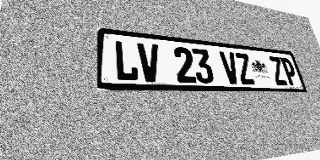2: (173, 46, 197, 83)
3: (191, 48, 214, 83)
L: (114, 40, 139, 81)
P: (279, 57, 300, 86)
V: (137, 42, 162, 82), (219, 51, 241, 84)
Z: (234, 53, 256, 85), (268, 56, 288, 85)
